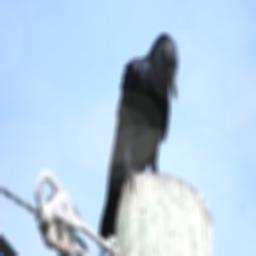Crow: (99, 32, 180, 250)
